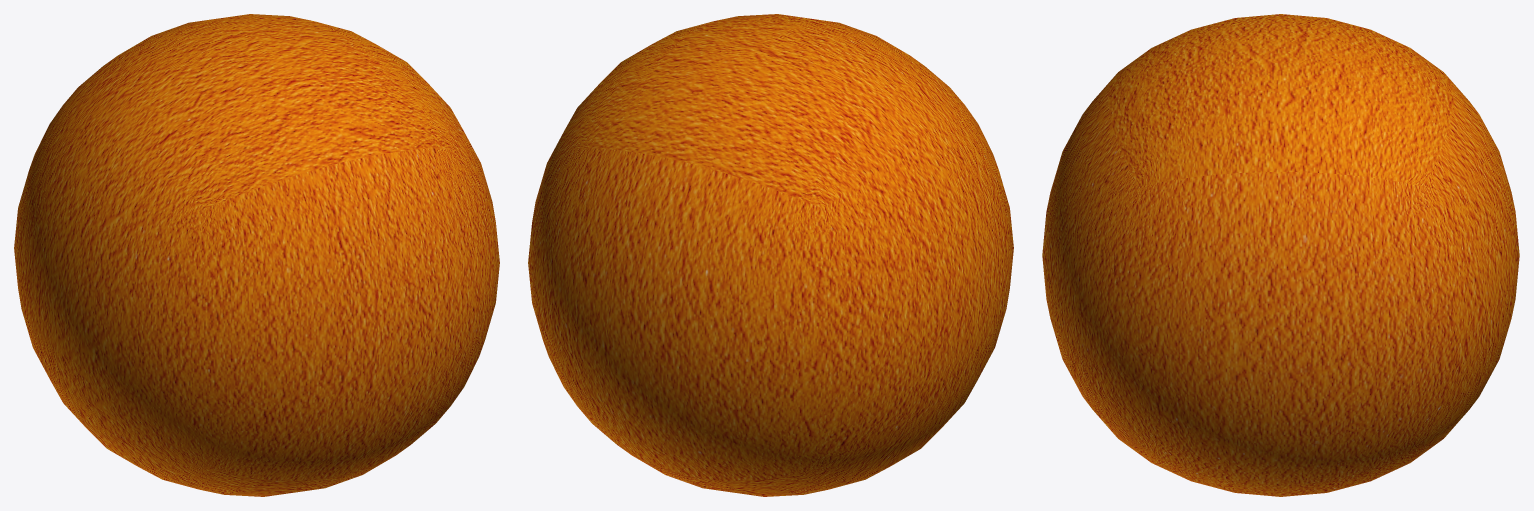
Rendered from orange_left.obj.
3 renders of one model, left to right at view 1: azimuth 30°, elevation 25°; view 2: azimuth 150°, elevation 25°; view 3: azimuth 270°, elevation 25°, orthographic.
Visible parts, largest first — view 1: Cube.002; view 2: Cube.002; view 3: Cube.002.
Part boxes in pixels (box(x1,y1,x2,y2)): Cube.002: box(14, 14, 499, 496); Cube.002: box(528, 14, 1013, 496); Cube.002: box(1042, 14, 1519, 496).
Size of the model in its own units: 0.07 by 0.07 by 0.07.
1 material, 1 textured.
